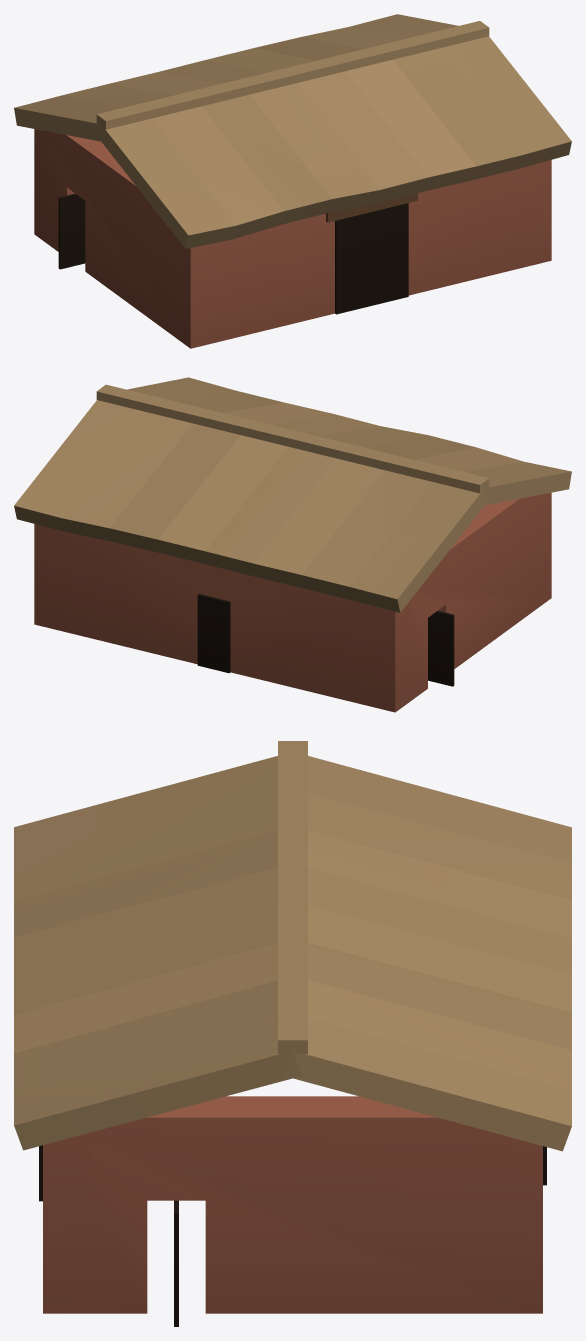
The model's file is republic_magazine_lod0.glb.
3 views of the same model, one above another, from view 1: azimuth 30°, elevation 25°; view 2: azimuth 150°, elevation 25°; view 3: azimuth 270°, elevation 25° (orthographic). The views are drawn at different scales.
Visible parts, largest first — view 1: GEO-Arch_republic_magazine_LOD0; view 2: GEO-Arch_republic_magazine_LOD0; view 3: GEO-Arch_republic_magazine_LOD0.
Boxes of the visible parts, x1=… form: GEO-Arch_republic_magazine_LOD0: x1=14, y1=14, x2=571, y2=348; GEO-Arch_republic_magazine_LOD0: x1=14, y1=377, x2=571, y2=712; GEO-Arch_republic_magazine_LOD0: x1=14, y1=741, x2=571, y2=1326.
Bounding box in the file's own units: 8.74 × 3.74 × 6.7.
